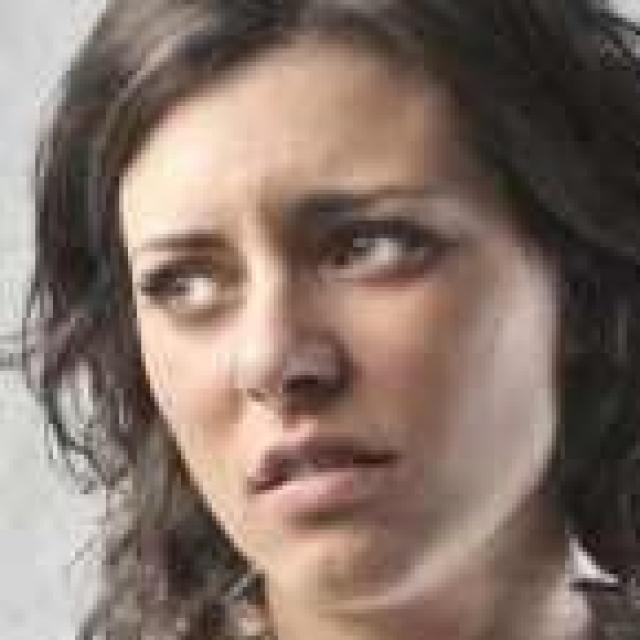Depress: (119, 38, 562, 608)
